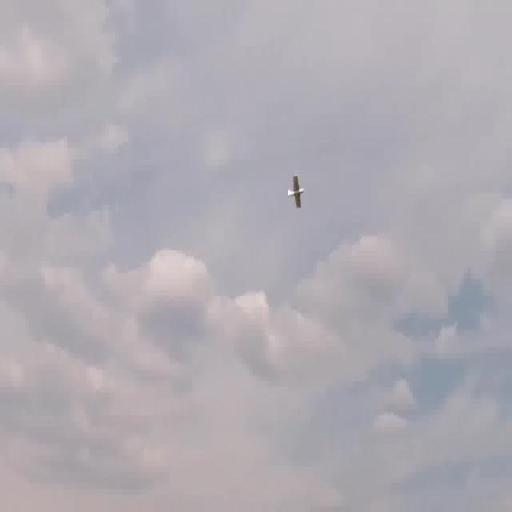uav: (282, 165, 314, 218)
